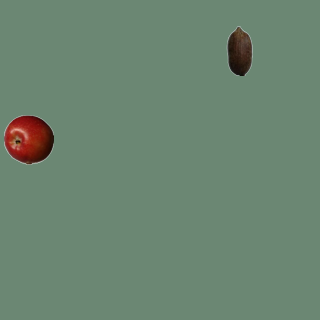Apple Braeburn: (3, 114, 53, 164)
Nut Pecan: (214, 25, 264, 75)
